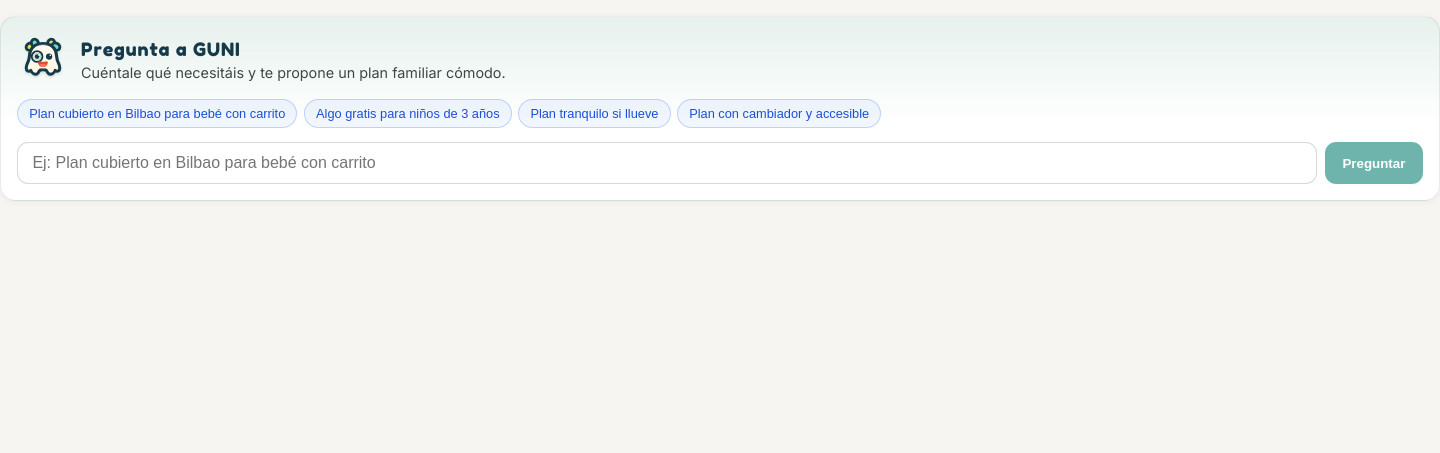
Test: GuniPanel › recomendación sin id (Data): no muestra 'Ver plan'
Step 1. Type "restaurante" into the field named "Tu necesidad familiar" → (667, 163), box [17,142,1317,184]
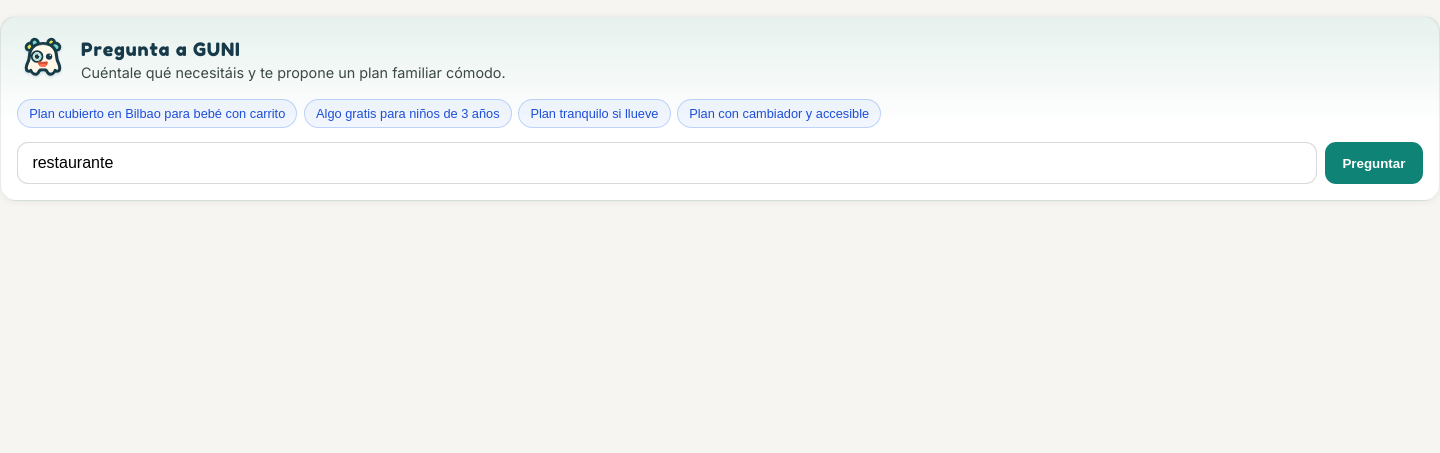
Step 2. Click the button "Preguntar" → (1374, 163), box [1325,142,1423,184]
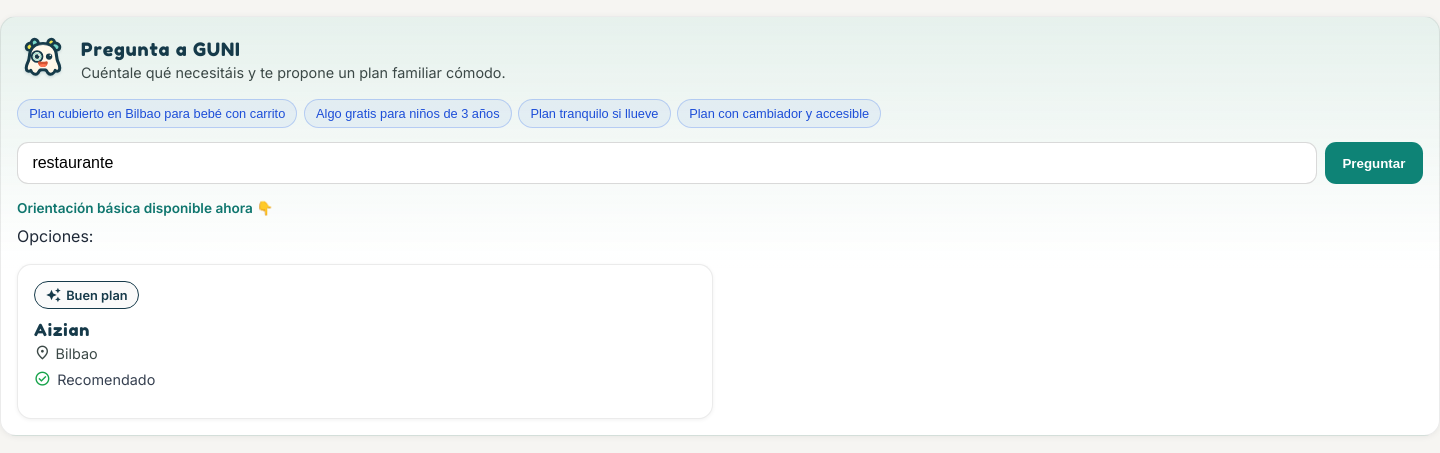
expect the heading "Aizian" is shown: met, box [34,320,90,340]
